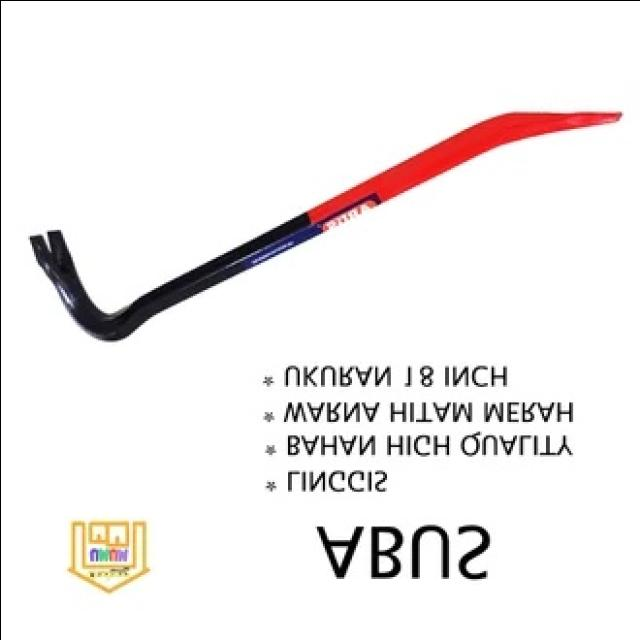Linggis: (29, 109, 619, 348)
